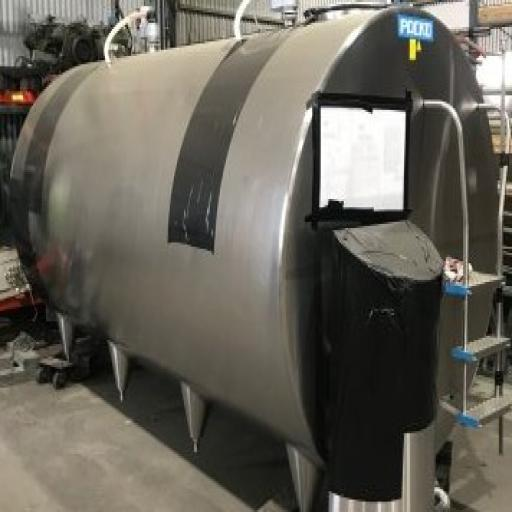silo: (9, 6, 502, 510)
